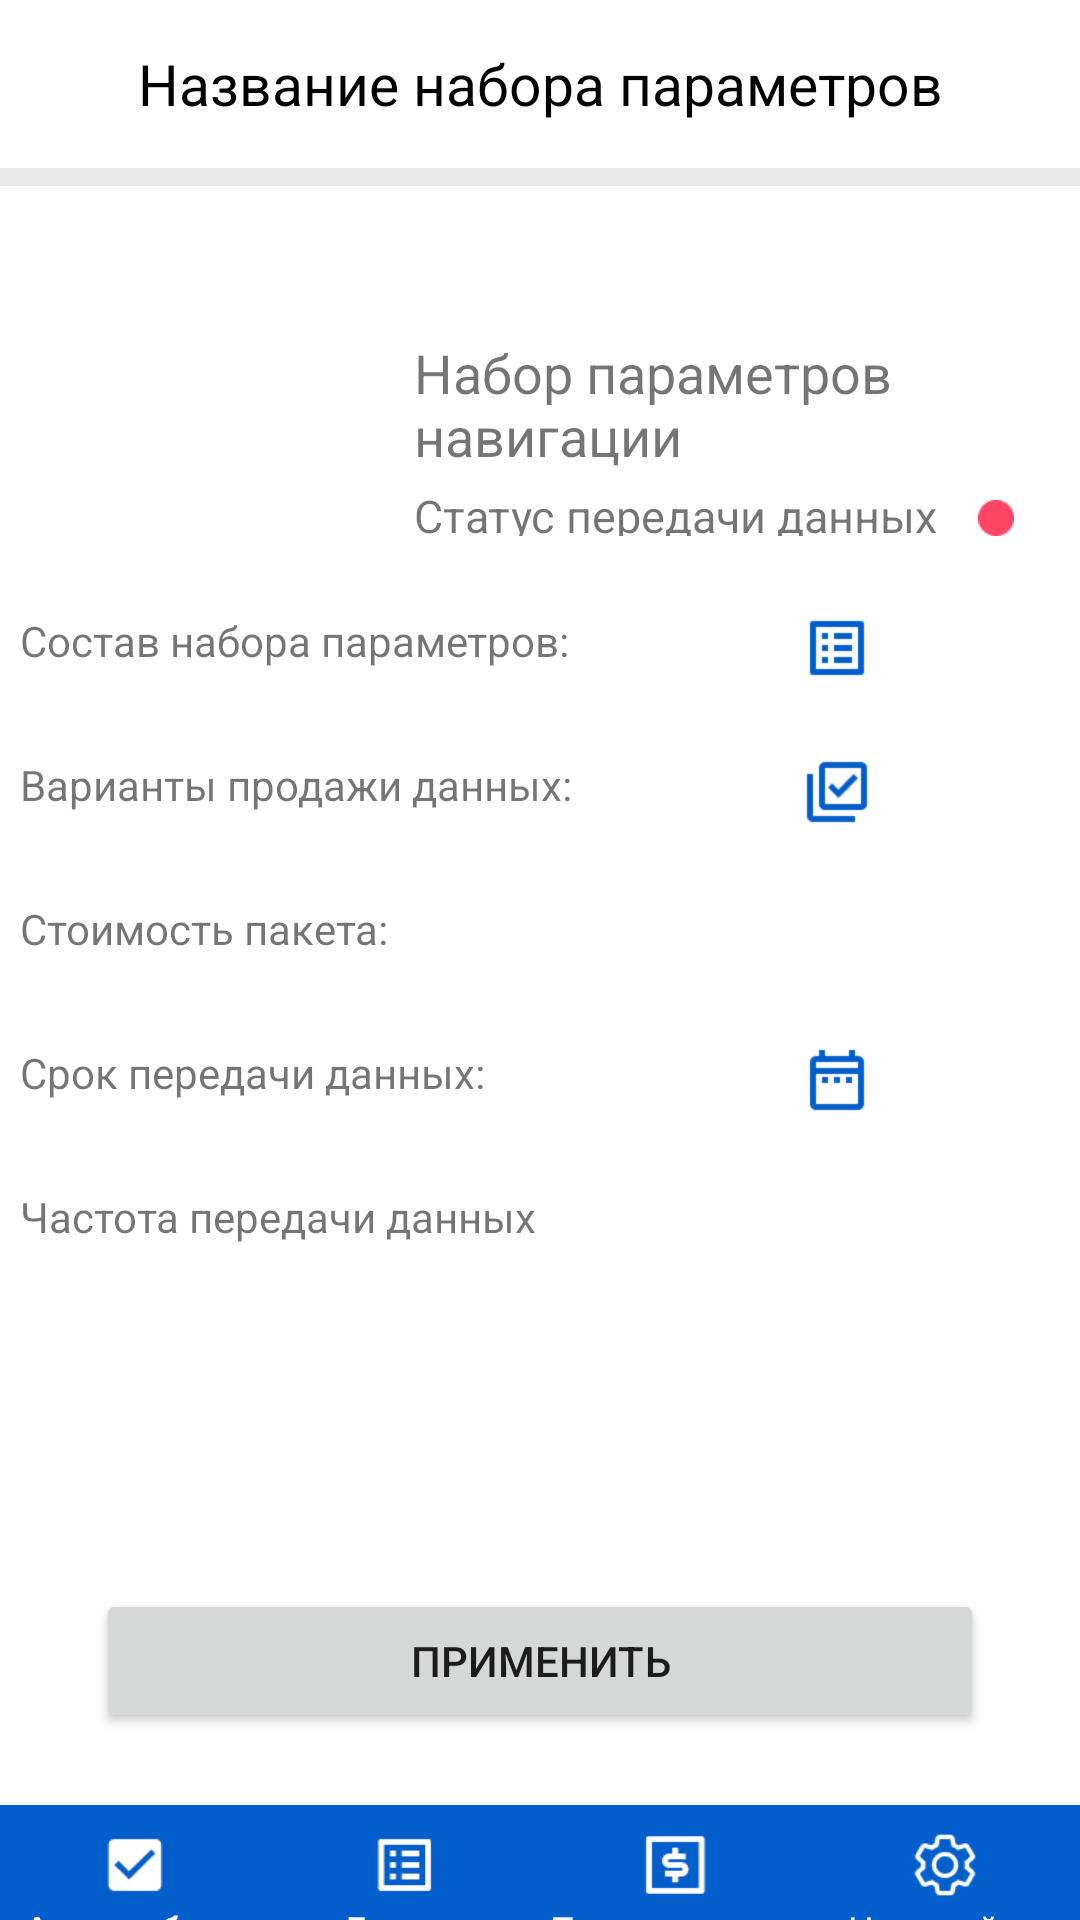

Icons on this 1080w x 1920h Android screen, each with the point to tap as point (x, y):
Изображение вариантов продажи: point (837, 792)
Изображение состава набора параметров: point (837, 648)
Изображение срока передачи данных: point (837, 1080)
Изображение статуса передачи данных - красный: point (996, 518)
